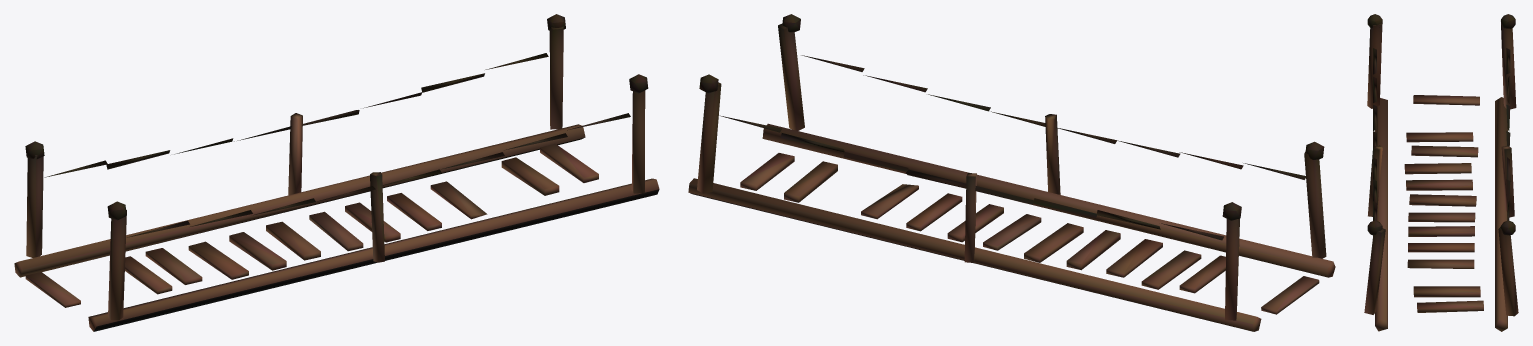
File: bridge_bk_foret_broceliande_0001.glb
The picture shows the model from 3 angles, left to right: view 1: azimuth 30°, elevation 25°; view 2: azimuth 150°, elevation 25°; view 3: azimuth 270°, elevation 25°; orthographic projection. The views are drawn at different scales.
Parts seen in each view (by area): view 1: bridge_bk_001; view 2: bridge_bk_001; view 3: bridge_bk_001.
Boxes of the visible parts, x1,y1,x2,y2 form: bridge_bk_001: (14, 14, 659, 331); bridge_bk_001: (688, 14, 1335, 331); bridge_bk_001: (1364, 14, 1518, 331).
Bounding box in the file's own units: 2.74 × 0.5858 × 0.7916.
